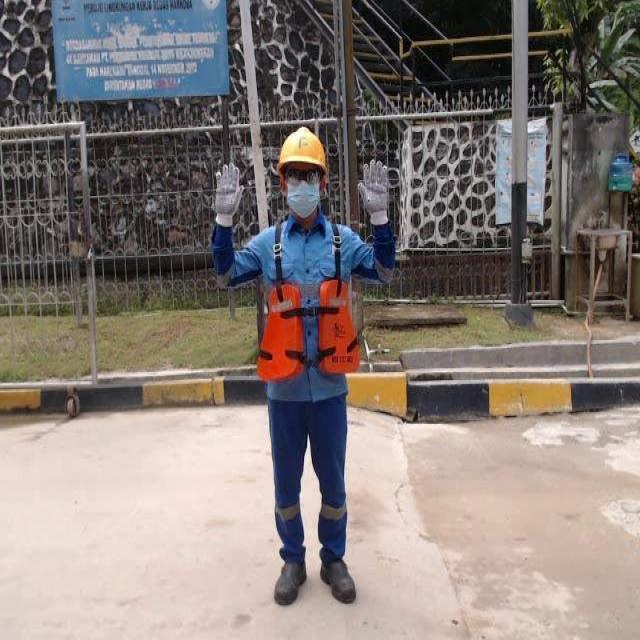Vest: (254, 276, 365, 384)
